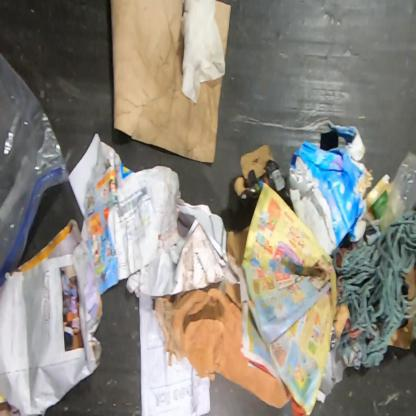cardboard: (102, 0, 224, 165), (152, 280, 292, 409), (286, 124, 374, 256), (240, 144, 276, 180), (387, 311, 415, 351), (214, 0, 231, 60), (226, 225, 250, 267), (399, 266, 415, 301)
rigid_plastic: (228, 159, 296, 230), (378, 149, 415, 237)
soft_plastic: (0, 49, 70, 297)
